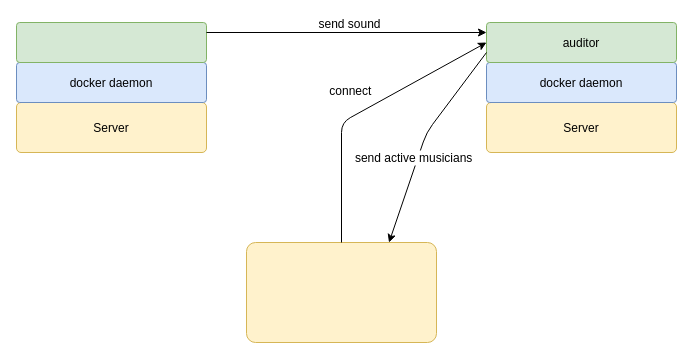
This 693x359 diagram has some shape labels left out. Here are the shapes that lost their labels. From the top down, the centre of each, then its label:
the point at 111,42: musician
the point at 341,292: Client
